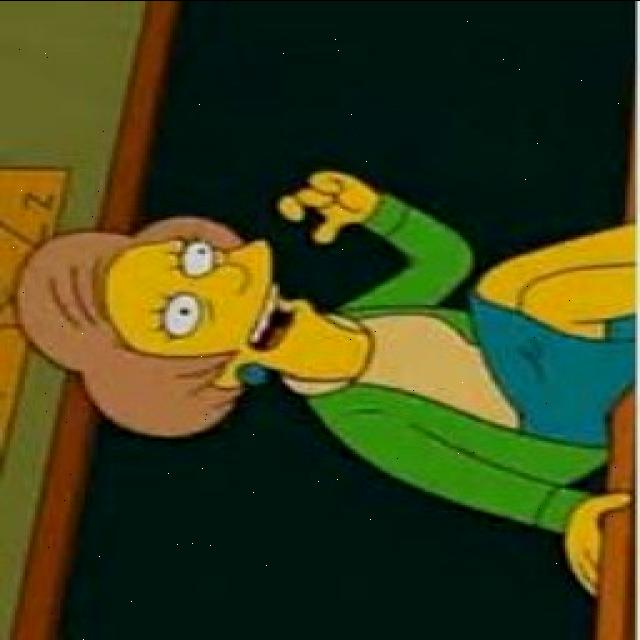Edna Krappel: (12, 210, 368, 442)
